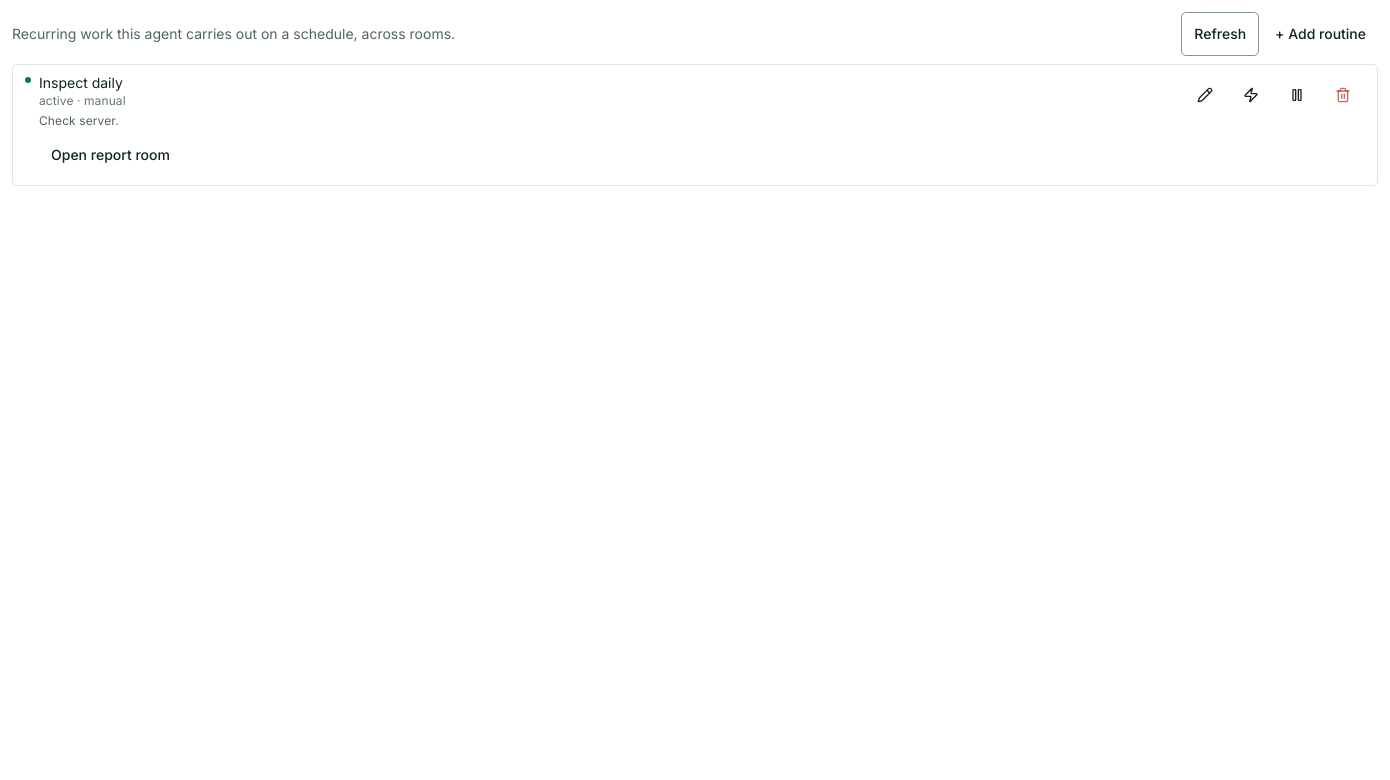
Test: loads existing routine fields into the edit form
What coordinates should you click on to do the following:
click the button named "Edit routine"
I would click on:
 (1205, 95)
Its box is x1=1183 y1=73 x2=1227 y2=117.
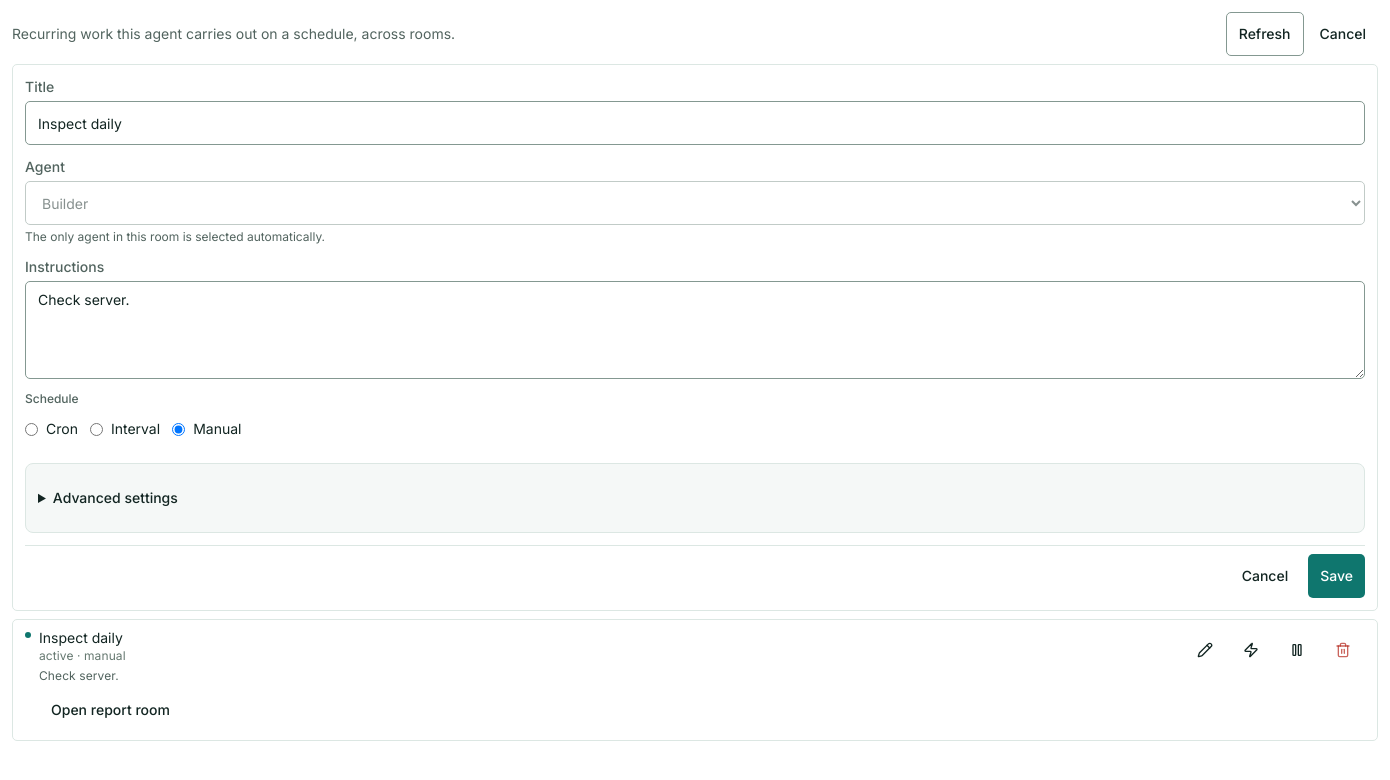
Check: the field labelled "Title" holds "Inspect daily", box x1=25 y1=101 x2=1365 y2=145
Check: the text box labelled "Instructions" holds "Check server.", box x1=25 y1=281 x2=1365 y2=379
Check: the element named "Report to room (room ID)" holds "room-A", box x1=25 y1=463 x2=1365 y2=533
